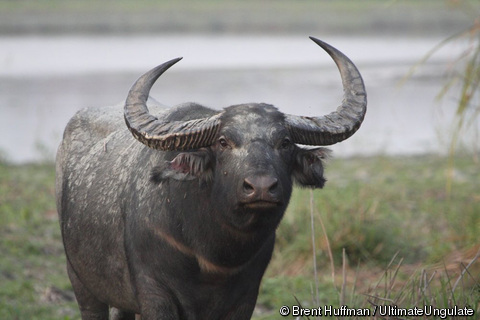buffalo: (62, 46, 356, 319)
